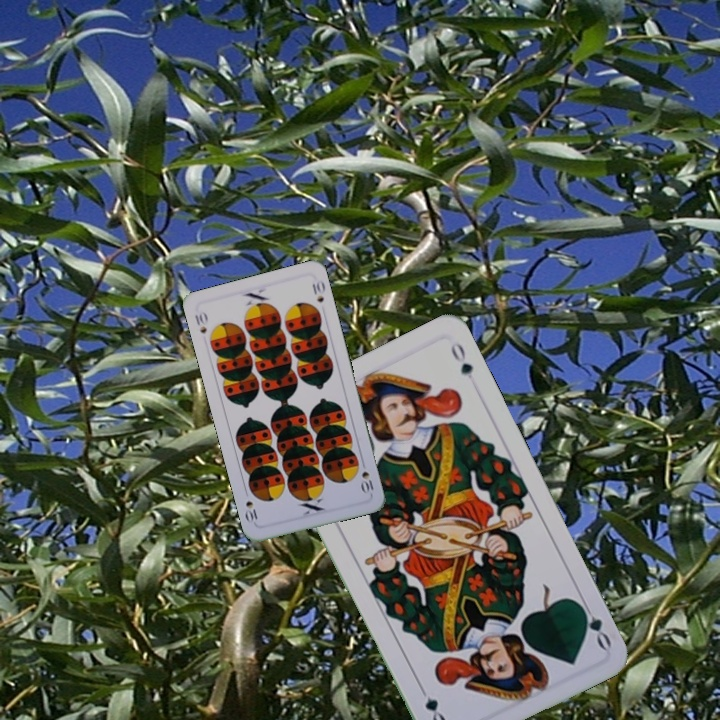GO: (573, 596, 614, 652)
S10: (357, 457, 376, 496), (191, 307, 210, 336)
